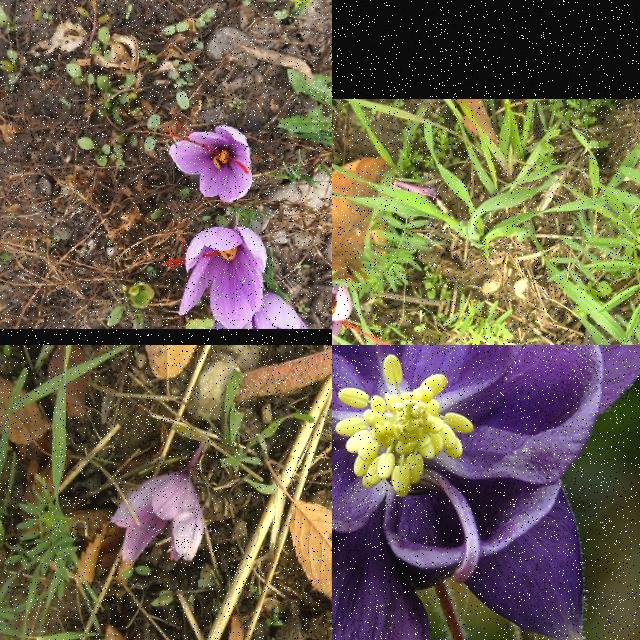flower: (160, 226, 268, 330), (112, 462, 206, 564), (168, 120, 255, 204), (332, 281, 399, 345), (212, 292, 310, 331)
